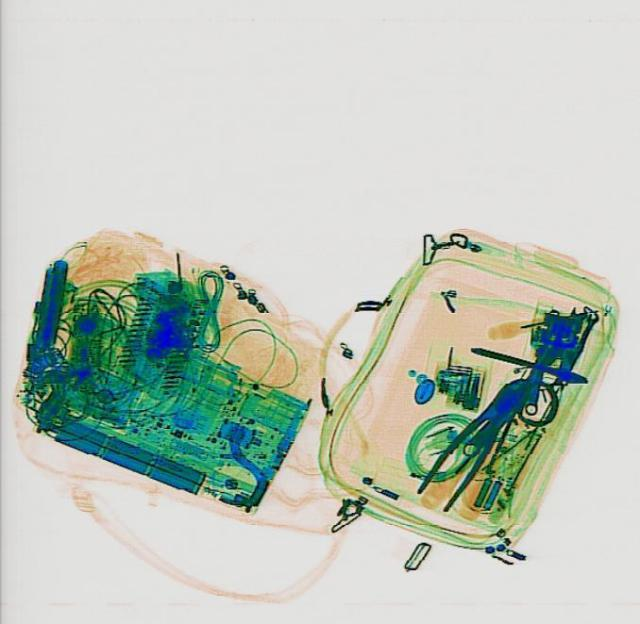Pliers: (409, 363, 543, 514)
